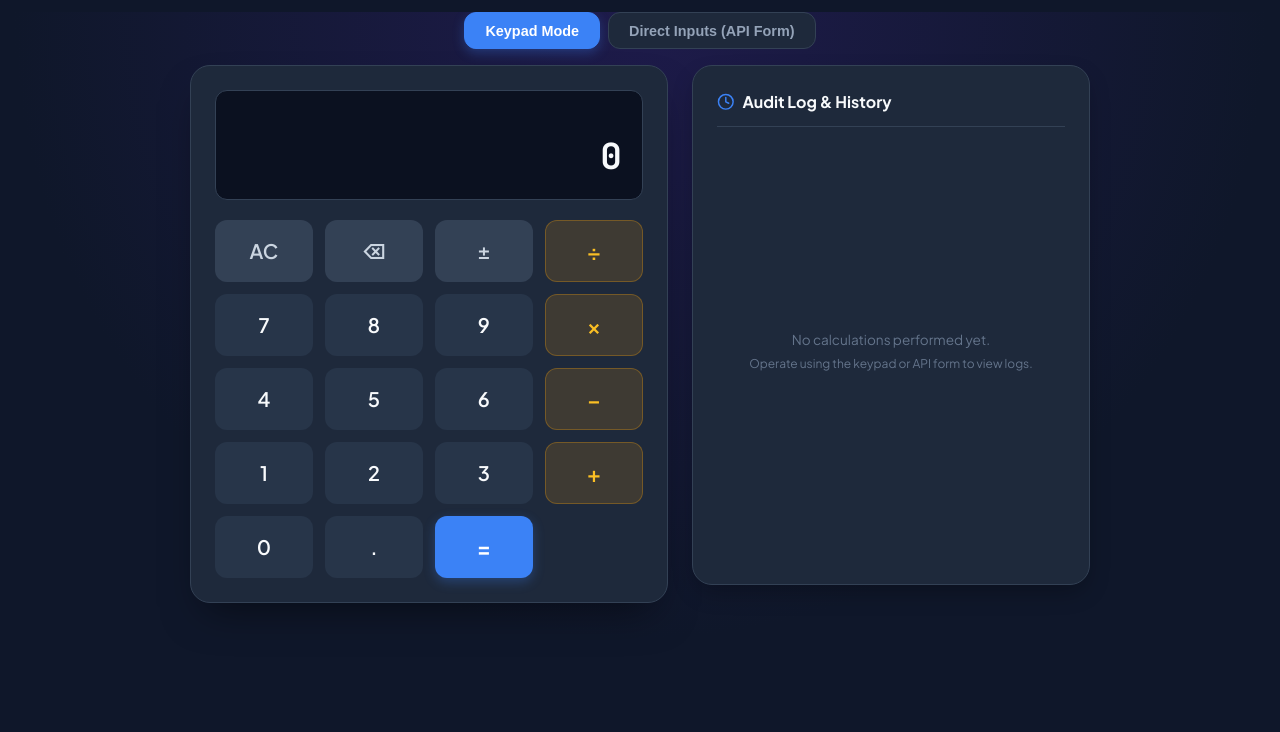
Test case: Calculator Component › handles division by zero domain error gracefully without crashing
 Click 8
Click the button with test id "btn-digit-8" at (374, 325), box top-left (325, 294), bottom-right (423, 356)
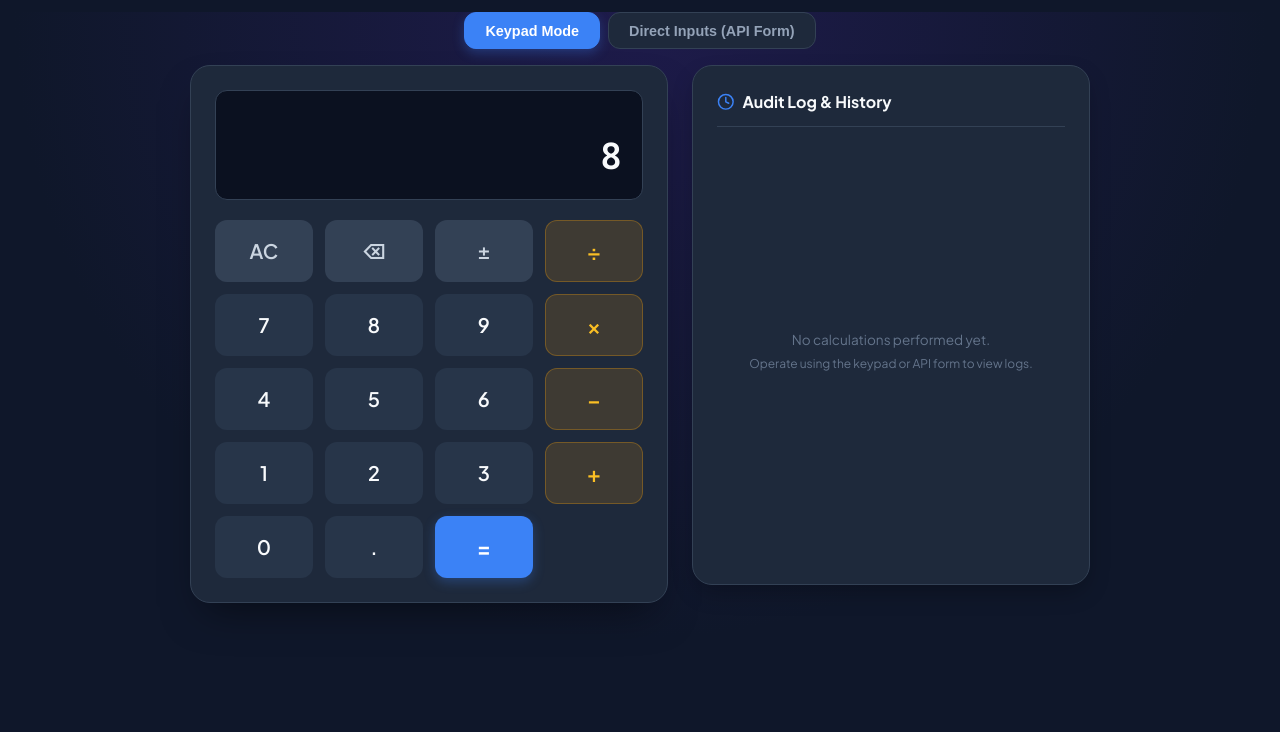
 Click ÷
Click the button with test id "btn-op-divide" at (594, 251), box top-left (545, 220), bottom-right (643, 282)
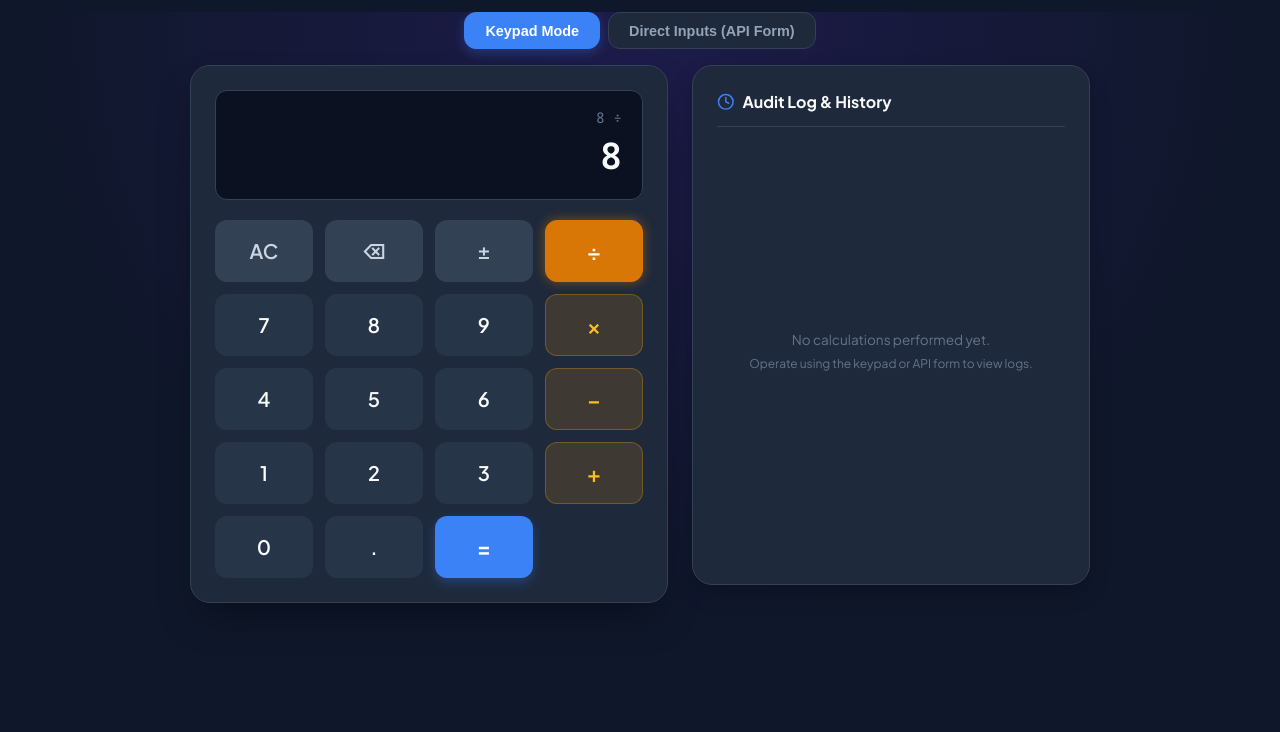
 Click 0
Click the button with test id "btn-digit-0" at (264, 547), box top-left (215, 516), bottom-right (313, 578)
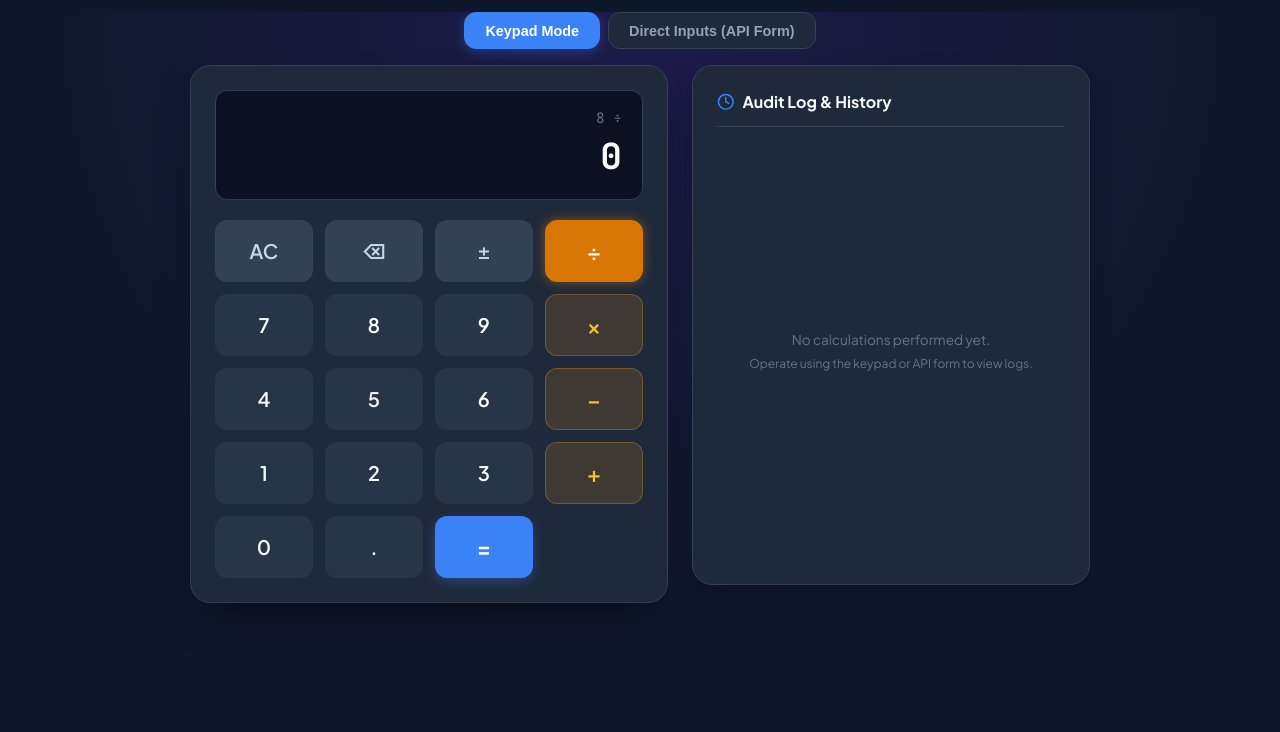
Click the button with test id "btn-equals" at (484, 547), box top-left (435, 516), bottom-right (533, 578)
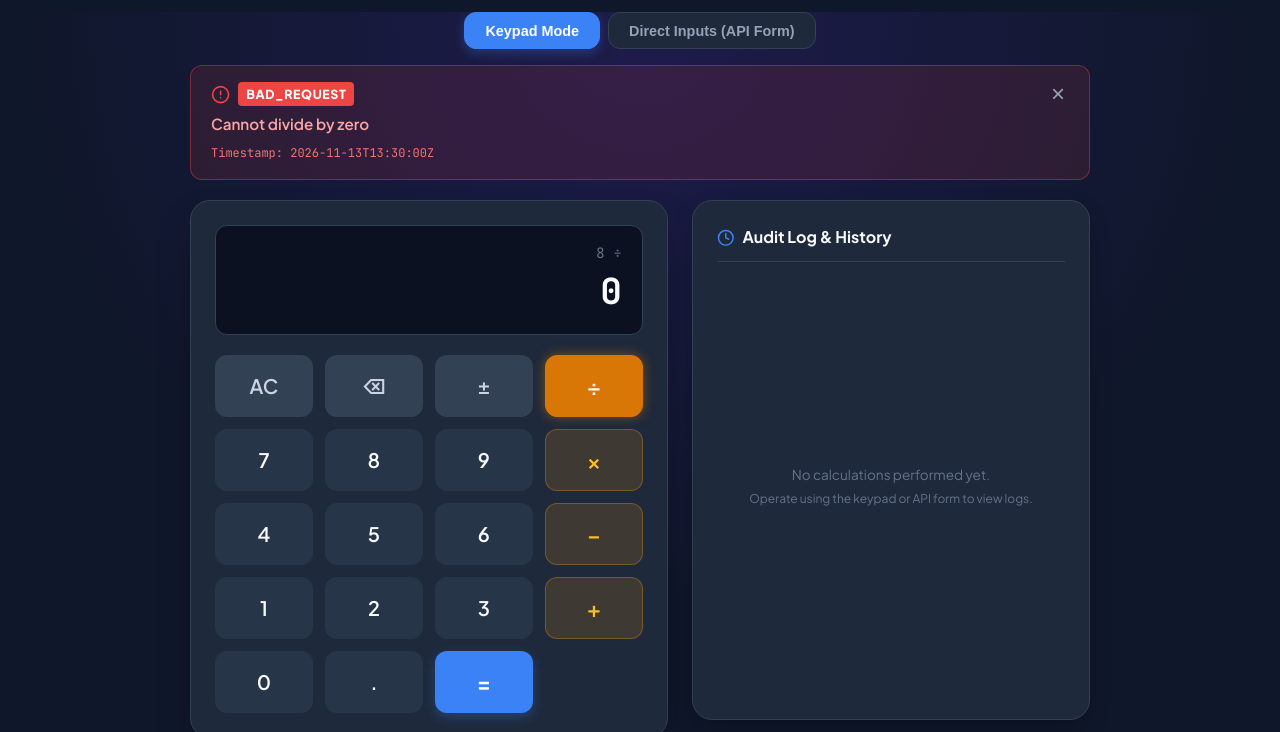
Expected: the message "BAD_REQUEST × Cannot divide by zero Timestamp: 2026-11-13T13:30:00Z" is shown, top-left (190, 65), bottom-right (1090, 180)
Expected: the text with test id "error-message" reads "Cannot divide by zero", top-left (211, 114), bottom-right (369, 133)
Expected: the text "BAD_REQUEST" is shown, top-left (238, 82), bottom-right (354, 106)
Dismiss banner
Click the button named "Dismiss error banner" at (1058, 94), box top-left (1047, 82), bottom-right (1069, 106)
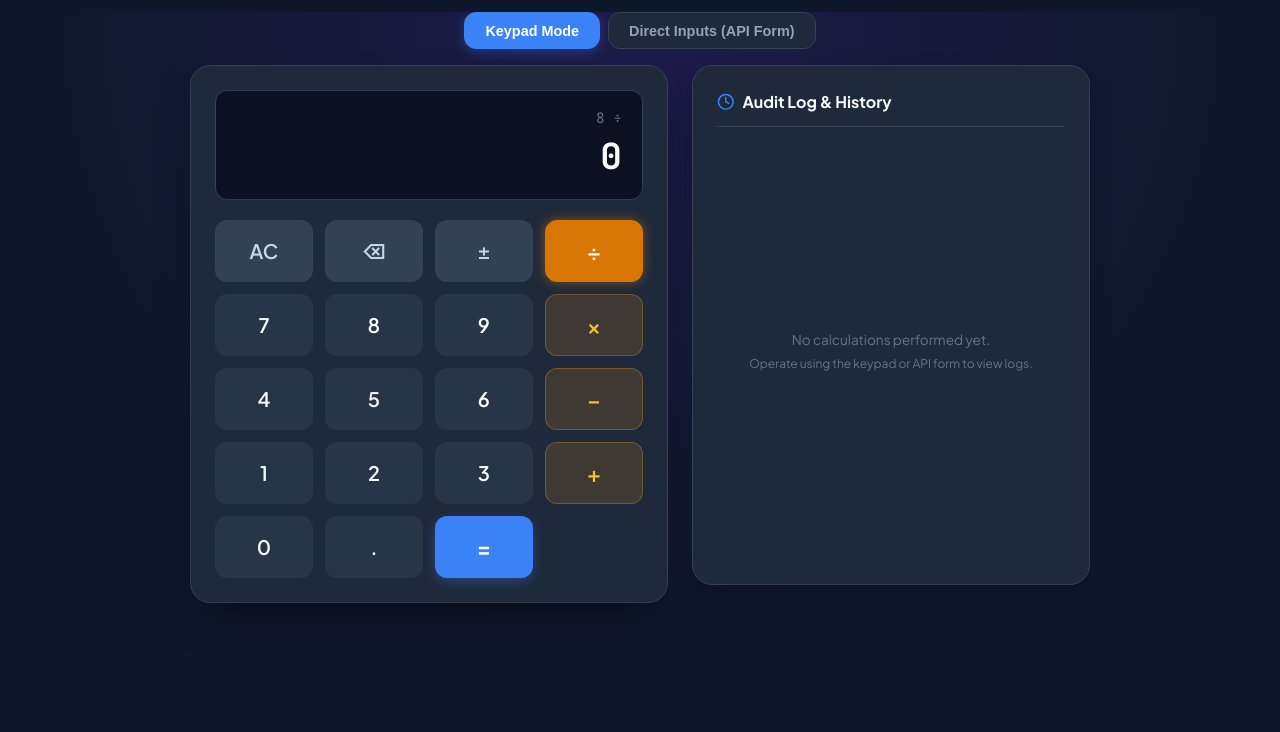
Expected: the message with test id "error-banner" is gone
